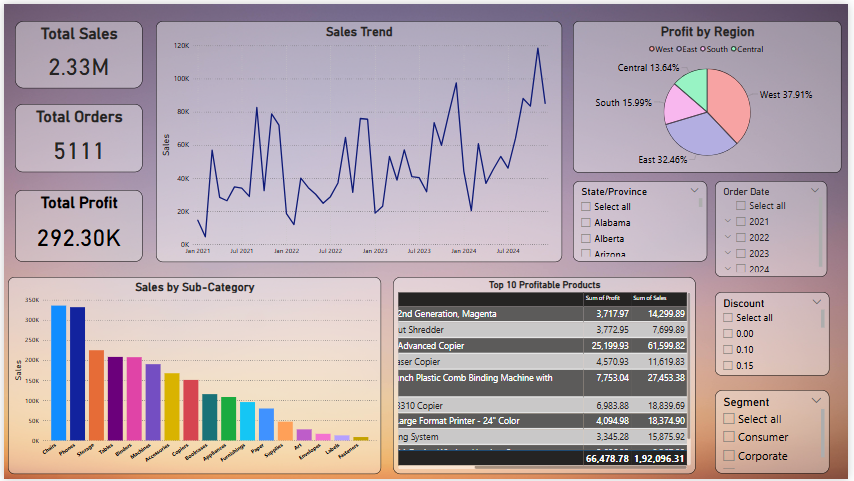

Layout of this report page (visuals, bound fields, positions):
{"tool":"powerbi","page":{"name":"Page 1","canvas":[1920,1080],"ordinal":0},"visuals":[{"type":"lineChart","title":"Sales Trend","fields":{"Y":["Sum(Orders.Sales)"],"Category":["Orders.Order Date.Variation.Date Hierarchy.Year","Orders.Order Date.Variation.Date Hierarchy.Quarter","Orders.Order Date.Variation.Date Hierarchy.Month"]},"box":[345,37.5,922.5,547.5],"z":0},{"type":"card","title":"Total Sales","fields":{"Values":["Sum(Orders.Sales)"]},"box":[25,37.5,290,152.5],"z":1},{"type":"columnChart","title":"Sales by Sub-Category","fields":{"Category":["Orders.Sub-Category"],"Y":["Sum(Orders.Sales)"],"Series":["Orders.Sub-Category"]},"box":[10,620,847.5,447.5],"z":2},{"type":"tableEx","title":"Top 10 Profitable Products","fields":{"Values":["Orders.Product Name","Sum(Orders.Profit)","Sum(Orders.Sales)"]},"box":[885,620,687.5,447.5],"z":3},{"type":"card","title":"Total Orders","fields":{"Values":["Count(Orders.Order ID)"]},"box":[25,227.5,290,155],"z":4},{"type":"card","title":"Total Profit","fields":{"Values":["Sum(Orders.Profit)"]},"box":[25,422.5,290,162.5],"z":5},{"type":"pieChart","title":"Profit by Region","fields":{"Y":["Sum(Orders.Profit)"],"Category":["Orders.Region"]},"box":[1292.5,37.5,610,345],"z":6},{"type":"slicer","fields":{"Values":["Orders.Order Date.Variation.Date Hierarchy.Year","Orders.Order Date.Variation.Date Hierarchy.Quarter","Orders.Order Date.Variation.Date Hierarchy.Month"]},"box":[1615,402.5,255,217.5],"z":7},{"type":"slicer","fields":{"Values":["Orders.Discount"]},"box":[1615,655,260,190],"z":8},{"type":"slicer","fields":{"Values":["Orders.Segment"]},"box":[1615,877.5,260,190],"z":9},{"type":"slicer","fields":{"Values":["Orders.State/Province"]},"box":[1292.5,402.5,305,182.5],"z":10}]}

Visuals, with their boxes in screenshot pixels (x1, y1, x2, y2), scaled from the page's 1920x1080 canvas onto the 854x481 screenshot:
"Sales Trend" lineChart: [x1=153, y1=17, x2=564, y2=261]
"Total Sales" card: [x1=11, y1=17, x2=140, y2=85]
"Sales by Sub-Category" columnChart: [x1=4, y1=276, x2=381, y2=475]
"Top 10 Profitable Products" tableEx: [x1=394, y1=276, x2=699, y2=475]
"Total Orders" card: [x1=11, y1=101, x2=140, y2=170]
"Total Profit" card: [x1=11, y1=188, x2=140, y2=261]
"Profit by Region" pieChart: [x1=575, y1=17, x2=846, y2=170]
slicer - Orders.Order Date.Variation.Date Hierarchy.Year x Orders.Order Date.Variation.Date Hierarchy.Quarter: [x1=718, y1=179, x2=832, y2=276]
slicer - Orders.Discount: [x1=718, y1=292, x2=834, y2=376]
slicer - Orders.Segment: [x1=718, y1=391, x2=834, y2=475]
slicer - Orders.State/Province: [x1=575, y1=179, x2=711, y2=261]
